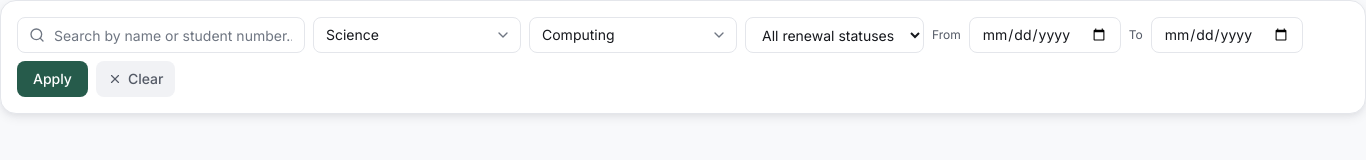
Test: clears the programme when faculty changes and shows delivery outcomes in history
Select "Arts" in the dropdown named "Faculty": (417,35) [313, 17, 521, 53]
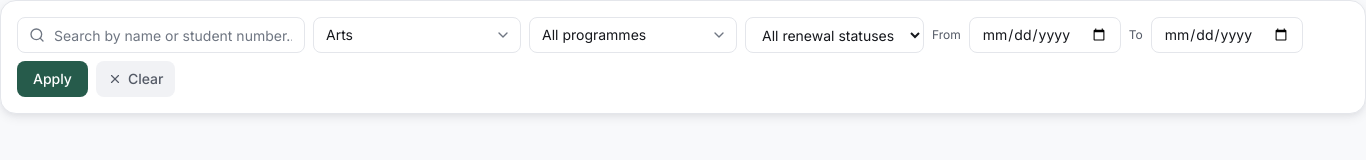
Expected: the date field named "From date" is shown, [969, 17, 1121, 53]
Expected: the dropdown named "Programme" shows "All programmes", [529, 17, 737, 53]
